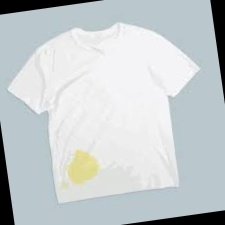mustard: (65, 146, 100, 184), (58, 179, 67, 191)
